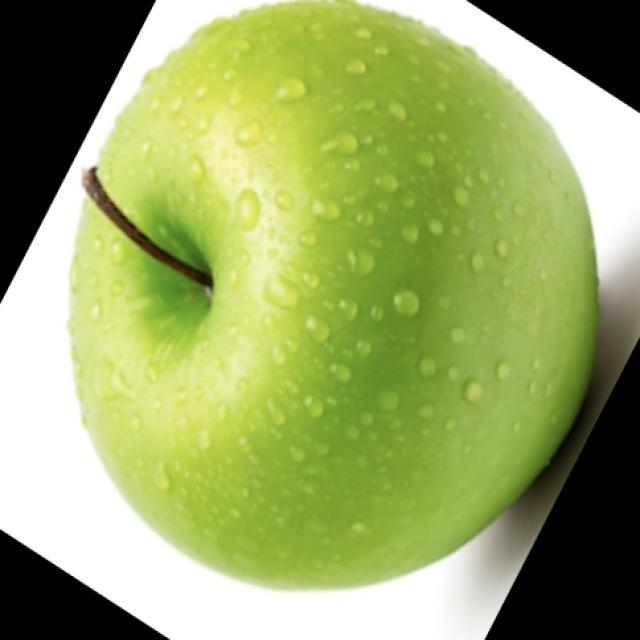Fresh Apple: (75, 15, 602, 567)
